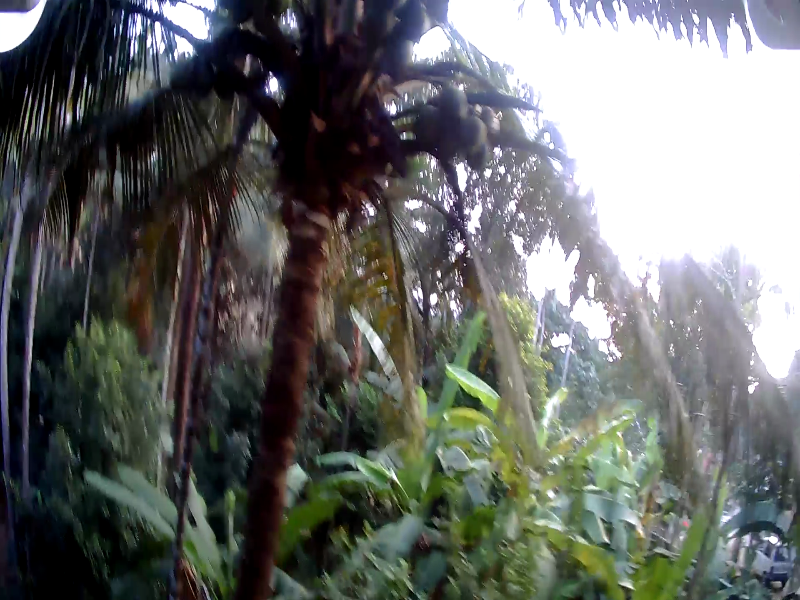coconut: (459, 116, 484, 147), (417, 107, 442, 133), (441, 87, 465, 113)
